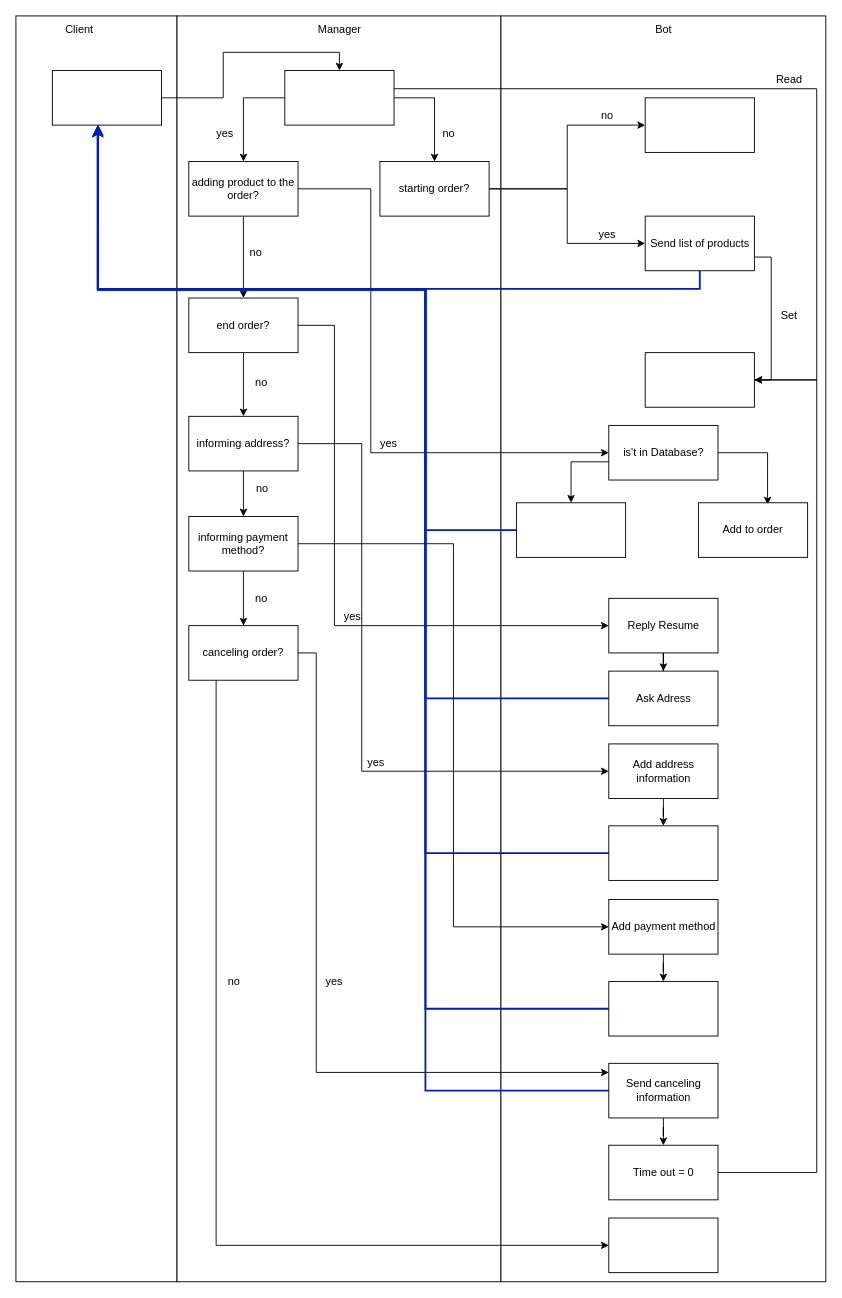
This 842x1298 diagram has some shape labels left out. The centre of each missing label's shape, as x and y in pixels:
Ask payment method: the point at 663,852
currently ordering?: the point at 339,97
Reply "this channel is only for orders": the point at 699,124
Send "not found product" message: the point at 571,529
Send any message (any): the point at 106,97
Send final informations: the point at 663,1008
Send unrecognized message: the point at 663,1245
Time out: the point at 699,379
